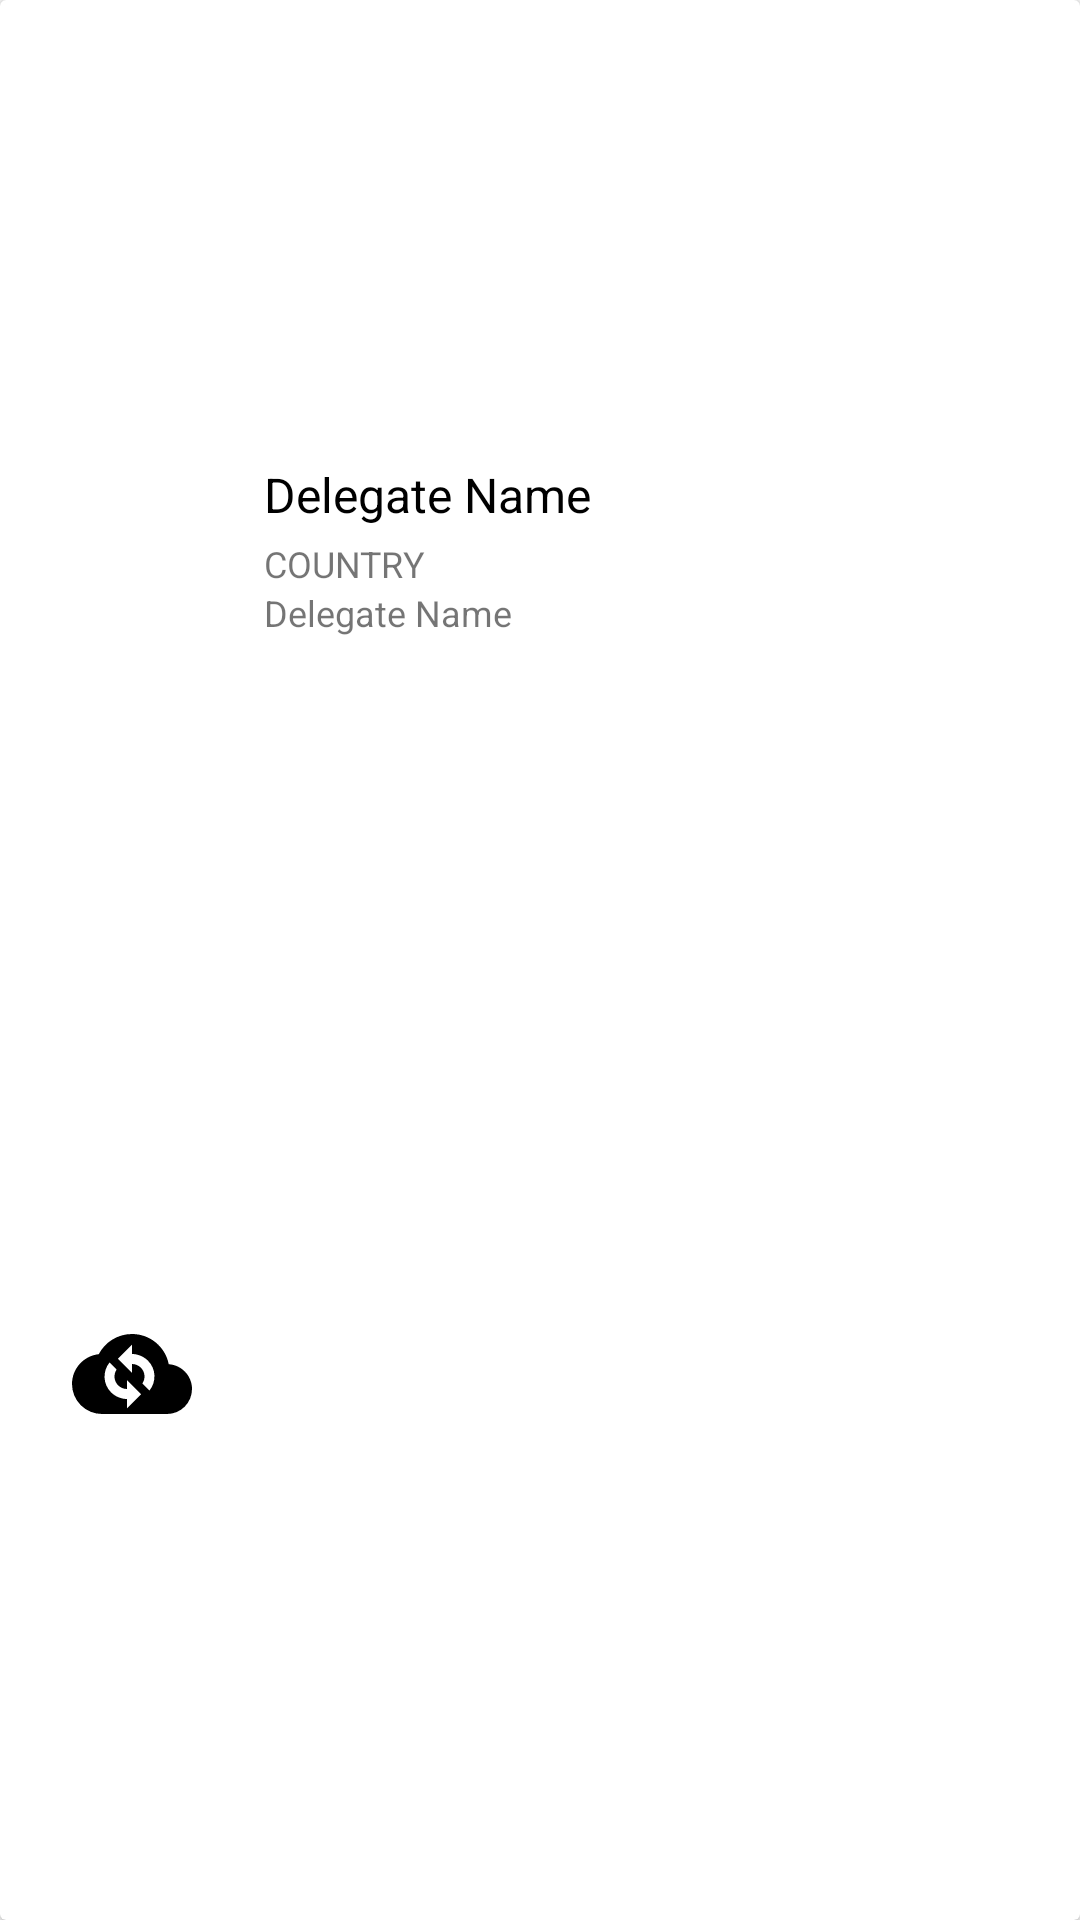

Screen size 1080x1920. Icon name, then its center in pixels as (x=x, y=y):
cloud sync: (x=132, y=1374)
